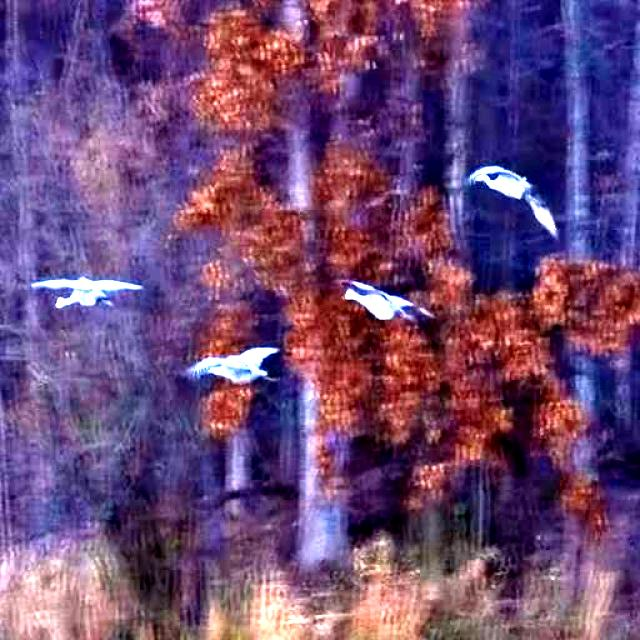airplane: (459, 155, 576, 252), (170, 332, 300, 408), (24, 261, 150, 326), (329, 261, 432, 331)
